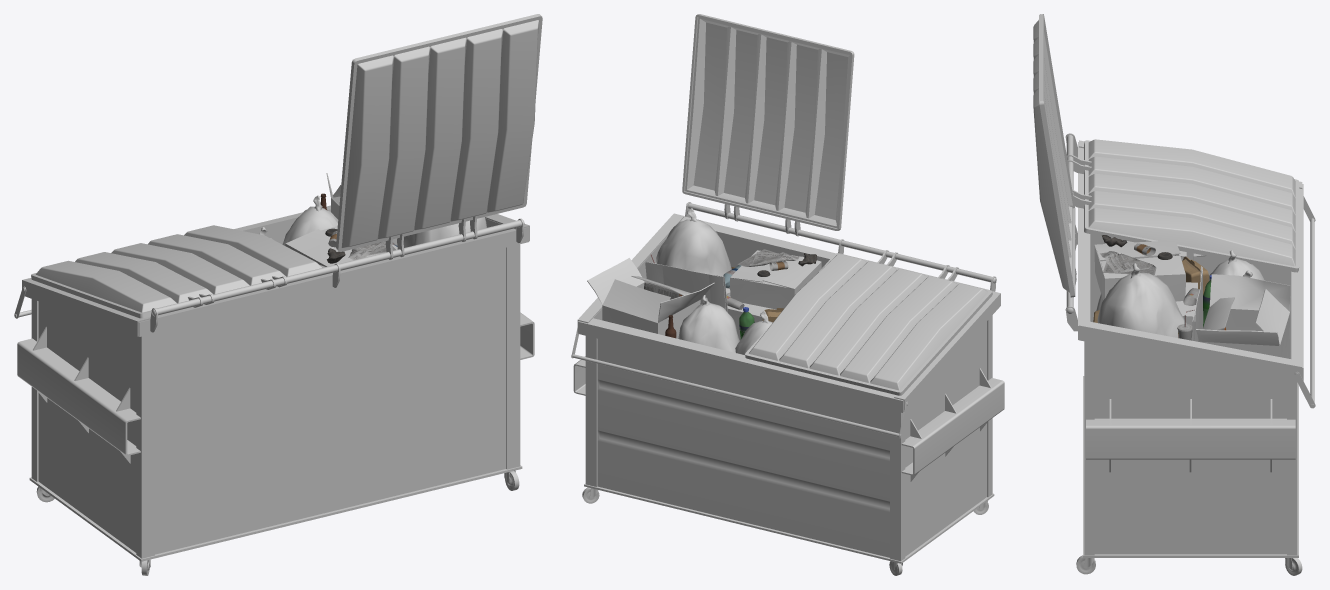
File: SM_Trash_Bin_Big_Half_Open_03.FBX
The picture shows the model from 3 angles, left to right: view 1: azimuth 30°, elevation 25°; view 2: azimuth 150°, elevation 25°; view 3: azimuth 270°, elevation 25°; orthographic projection. The views are drawn at different scales.
Parts seen in each view (by area): view 1: SM_Trash_Bin_Big_Half_Open_03_LOD0; view 2: SM_Trash_Bin_Big_Half_Open_03_LOD0; view 3: SM_Trash_Bin_Big_Half_Open_03_LOD0.
Boxes of the visible parts, x1,y1,x2,y2 form: SM_Trash_Bin_Big_Half_Open_03_LOD0: [14, 14, 542, 575]; SM_Trash_Bin_Big_Half_Open_03_LOD0: [571, 14, 1004, 575]; SM_Trash_Bin_Big_Half_Open_03_LOD0: [1033, 14, 1315, 575].
Size of what is drawn, in the model's own units: 196 by 121 by 225.
